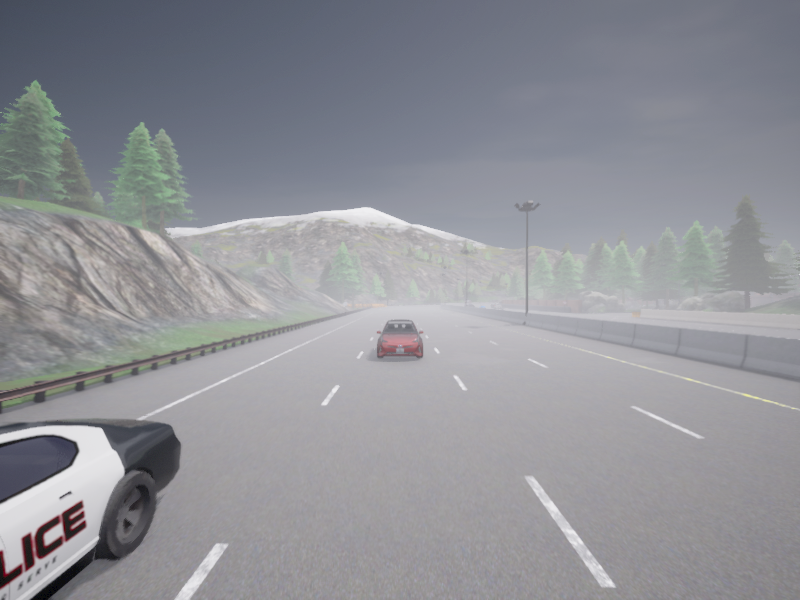vehicle: (0, 418, 181, 599), (376, 319, 423, 358), (490, 303, 501, 309), (464, 300, 471, 305), (465, 304, 473, 306), (479, 304, 484, 307)
